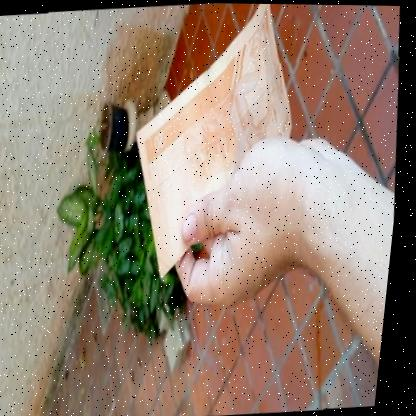twenty-back-vef: (116, 2, 315, 282)
